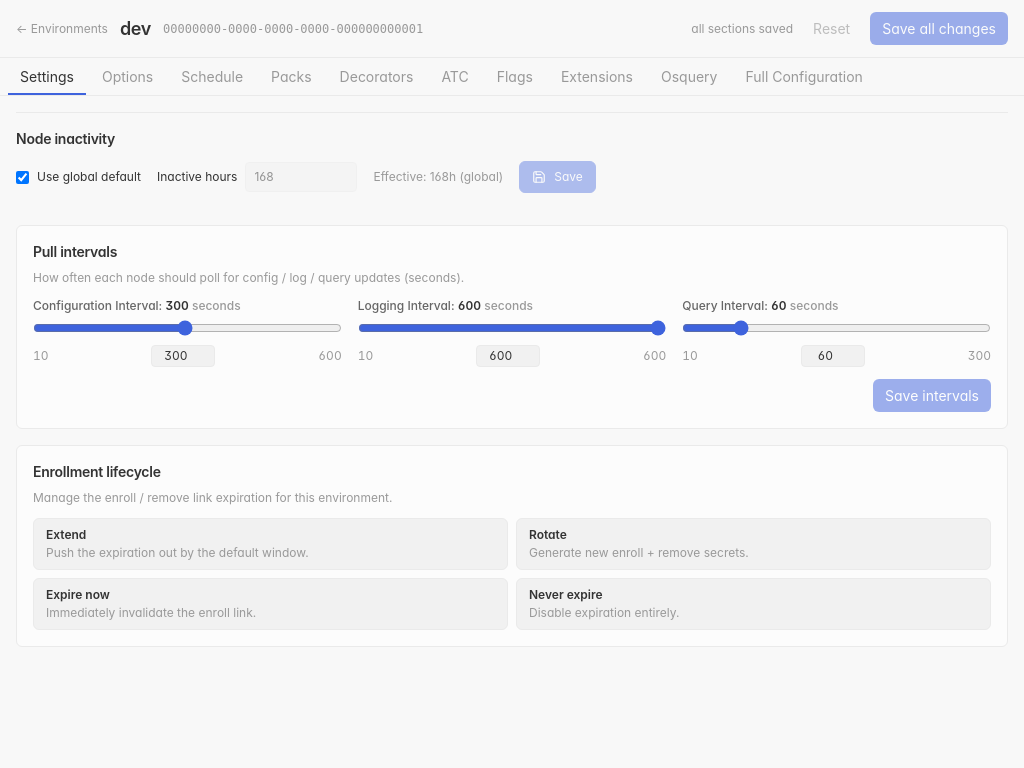
Test case: EnvConfigPage › uses environment admin permission: true
Click the checkbox labelled "Use global default" at {"x": 22, "y": 177}, box [16,170,29,184]
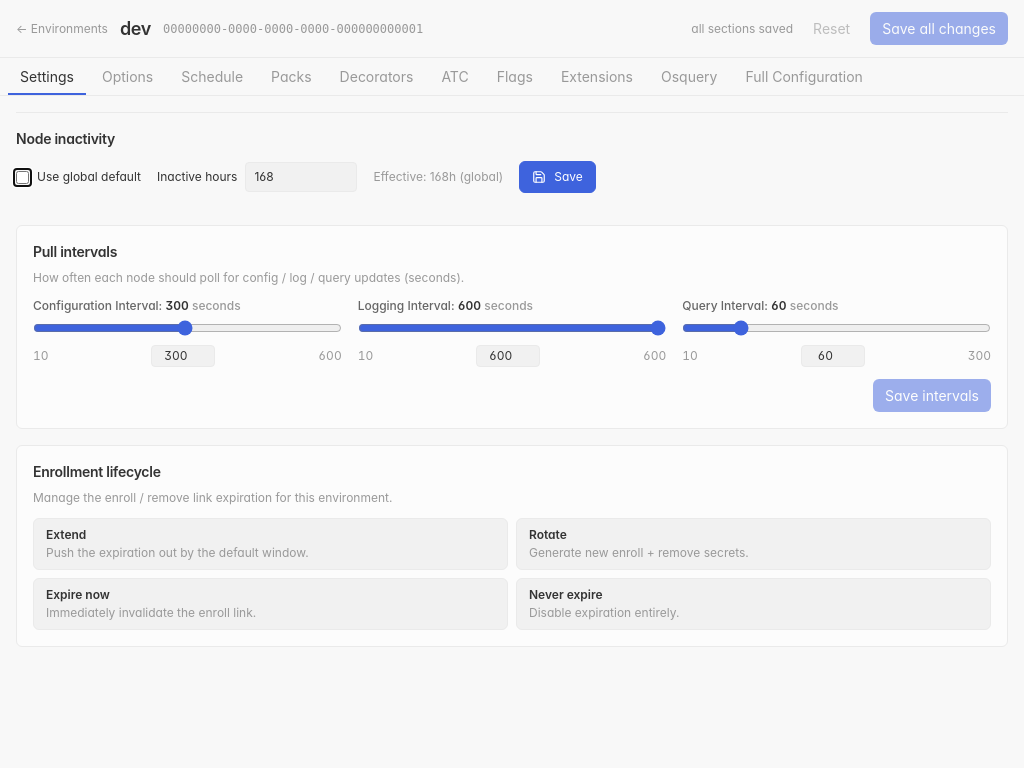
Now the button with aria-label "Save inactive hours" is enabled, box [519,161,596,193]
